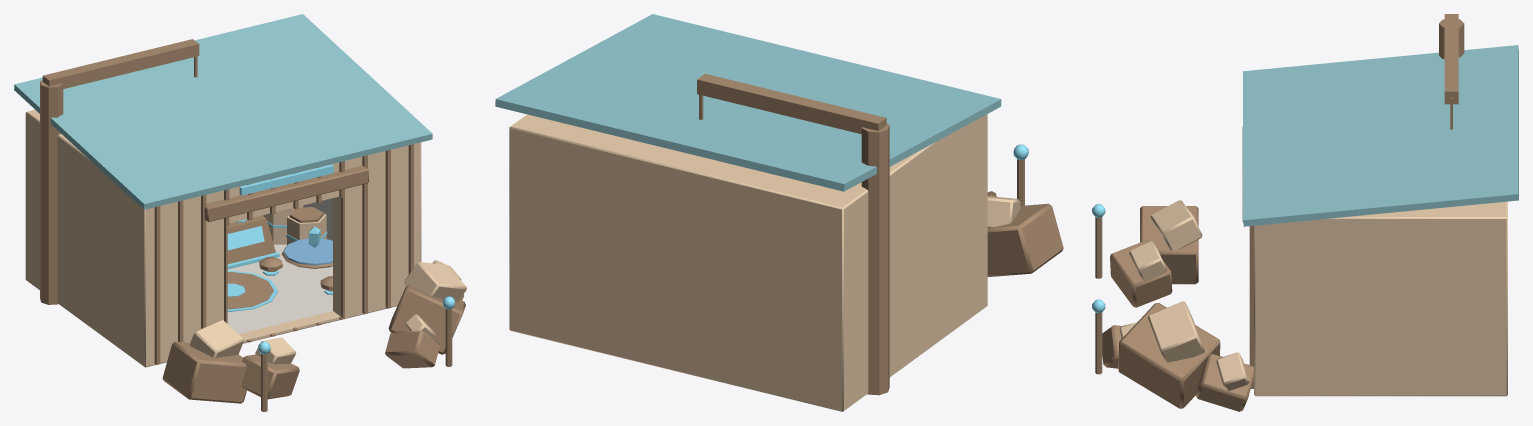
Rendered from CiudadChatarra.fbx.
3 renders of one model, left to right at view 1: azimuth 30°, elevation 25°; view 2: azimuth 150°, elevation 25°; view 3: azimuth 270°, elevation 25°, orthographic. The views are drawn at different scales.
Visible parts, largest first — view 1: CiudadChatarra_Base_Cuerpo, CiudadChatarra_Base_Techo, CiudadChatarra_Base_Metal, CiudadChatarra_Base_Forro, CiudadChatarra_Base_Luz, CiudadChatarra_Base_Cristal; view 2: CiudadChatarra_Base_Cuerpo, CiudadChatarra_Base_Techo, CiudadChatarra_Base_Metal; view 3: CiudadChatarra_Base_Cuerpo, CiudadChatarra_Base_Techo, CiudadChatarra_Base_Metal.
Boxes of the visible parts, bbox=[...] form: CiudadChatarra_Base_Cuerpo: bbox=[25, 110, 466, 367]; CiudadChatarra_Base_Techo: bbox=[14, 14, 432, 209]; CiudadChatarra_Base_Metal: bbox=[40, 39, 465, 411]; CiudadChatarra_Base_Forro: bbox=[227, 198, 332, 333]; CiudadChatarra_Base_Luz: bbox=[227, 164, 454, 354]; CiudadChatarra_Base_Cristal: bbox=[284, 238, 332, 265]; CiudadChatarra_Base_Cuerpo: bbox=[509, 114, 1020, 411]; CiudadChatarra_Base_Techo: bbox=[495, 14, 1001, 191]; CiudadChatarra_Base_Metal: bbox=[697, 73, 1063, 395]; CiudadChatarra_Base_Cuerpo: bbox=[1119, 200, 1507, 396]; CiudadChatarra_Base_Techo: bbox=[1243, 45, 1518, 226]; CiudadChatarra_Base_Metal: bbox=[1095, 14, 1464, 411].
Size of the model in its own units: 2712 by 1987 by 3025.
